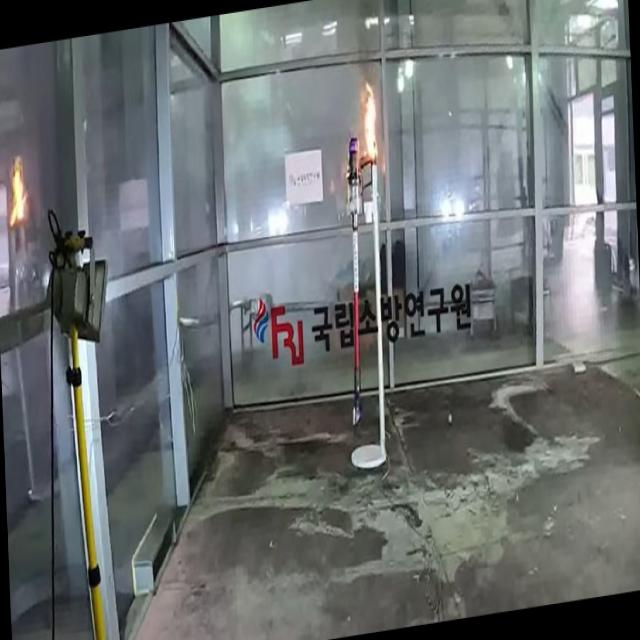fire: (351, 56, 400, 191), (2, 140, 41, 248)
